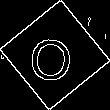O_N: (31, 27, 79, 83)
